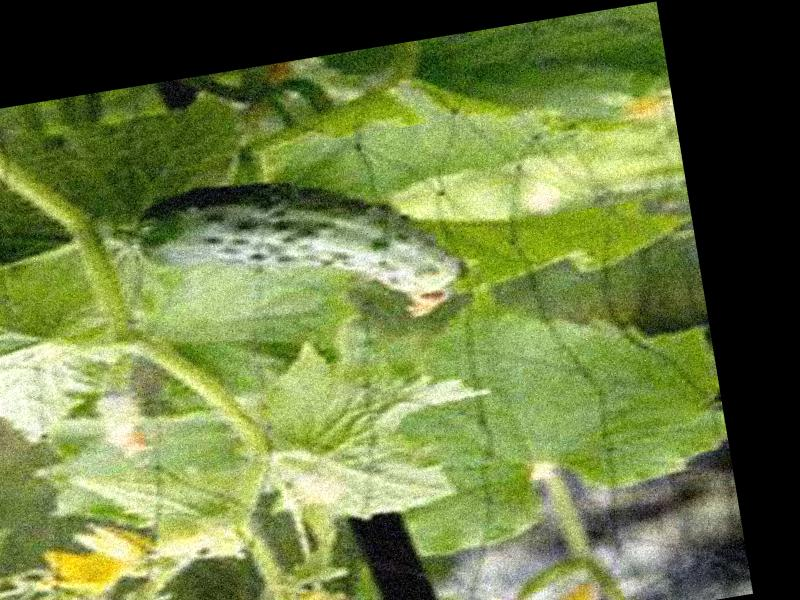Cucumber: (125, 150, 471, 361)
